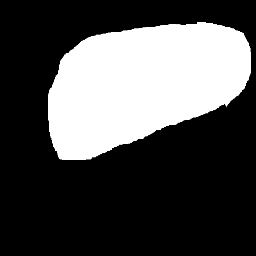mass: (33, 21, 235, 150)
